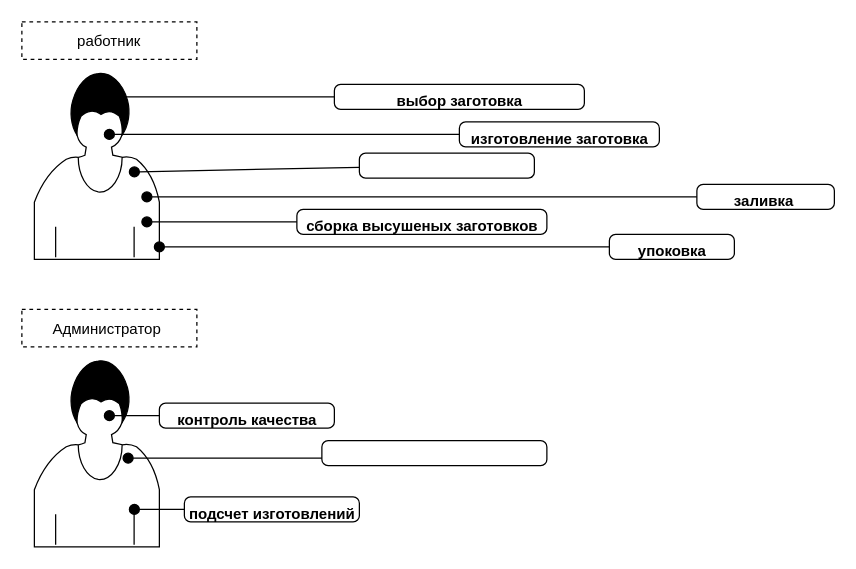
Image size: 856x569. Some labels were removed from this diagram. Each missing label, with the centre of its shape:
"работа с важными бумагами" belongs at point (434, 452).
"сборка" belongs at point (446, 165).
